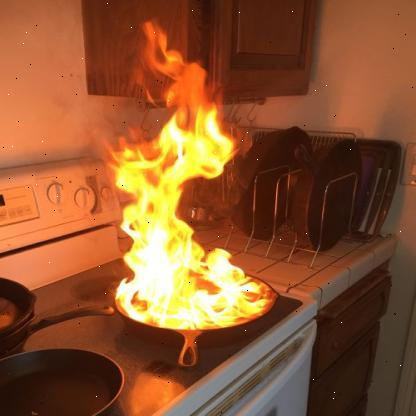fire: (89, 18, 270, 332)
